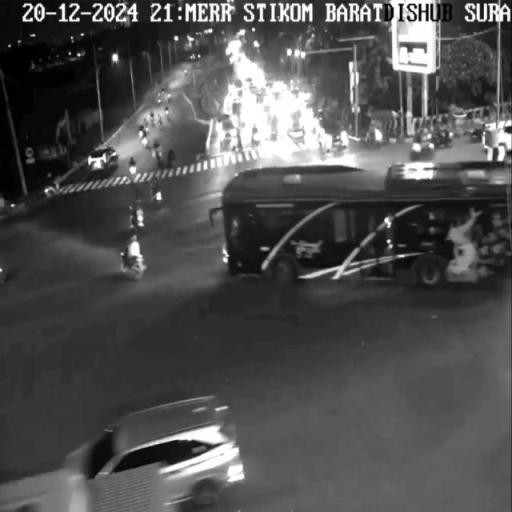car: (44, 397, 246, 504), (89, 146, 118, 176)
motorcycle: (116, 249, 156, 282), (124, 214, 147, 231)
truck: (217, 163, 512, 285)
